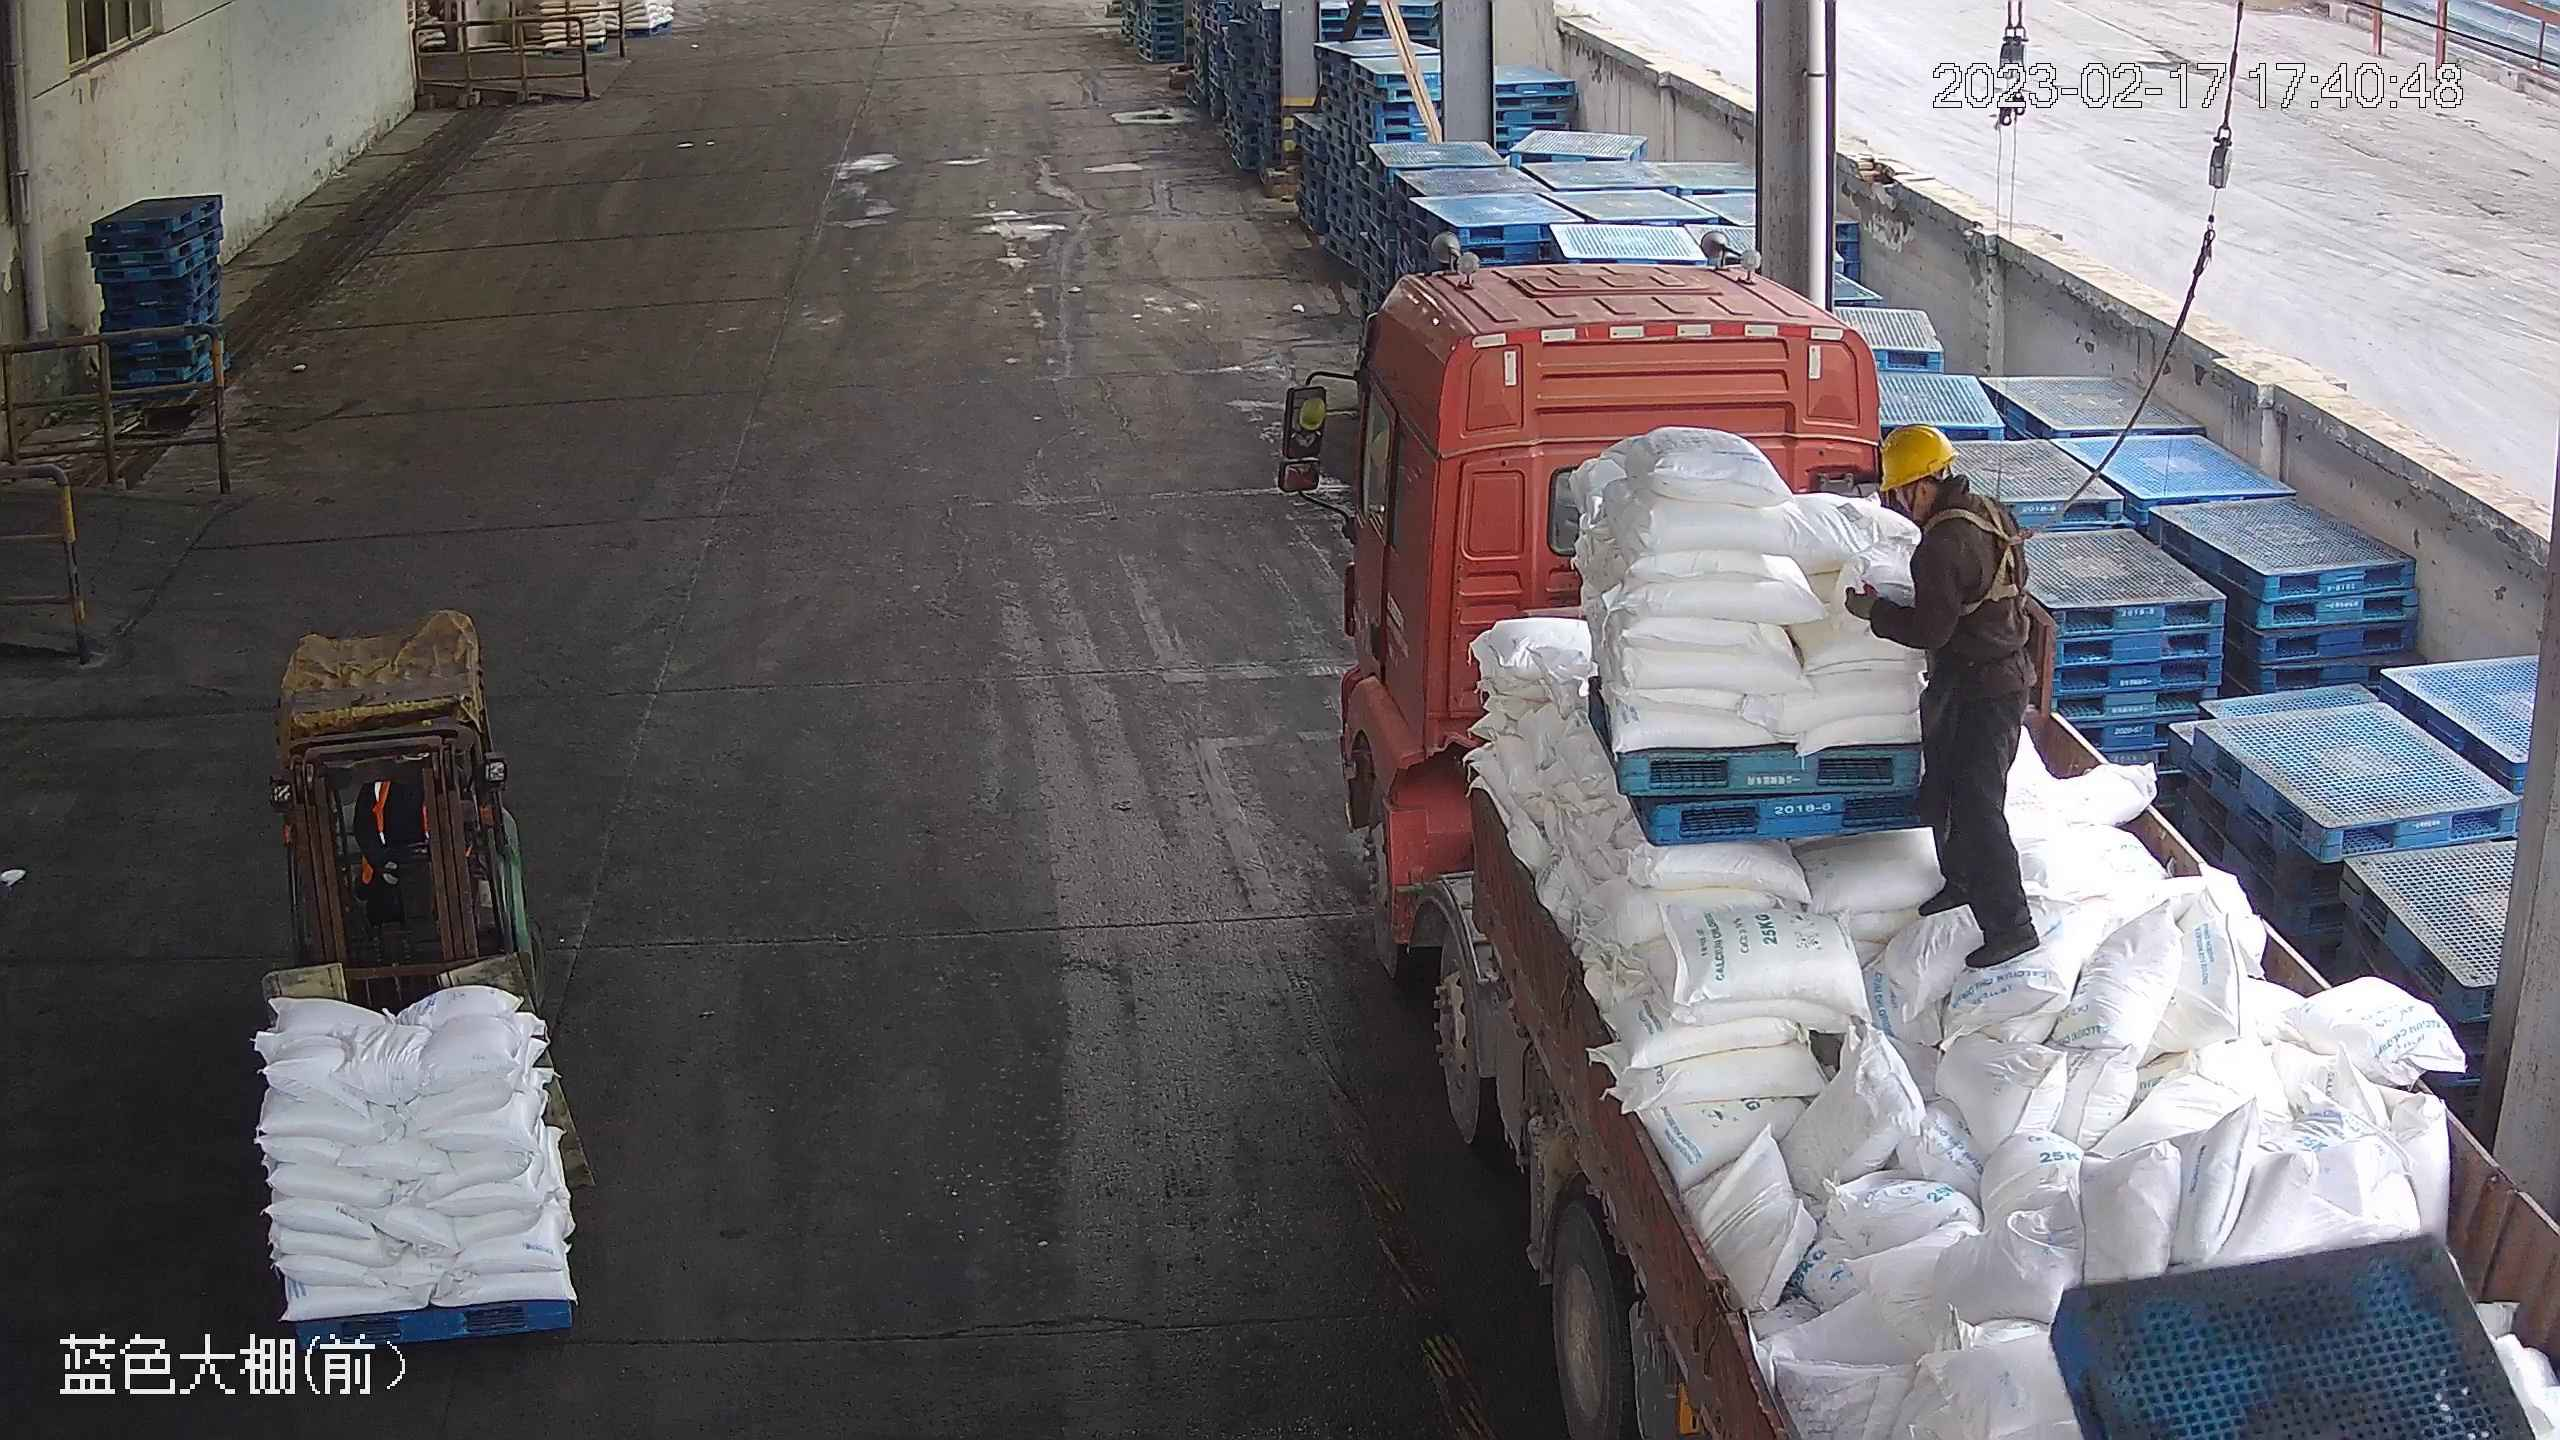belt: (1935, 491, 2038, 615)
head: (1869, 422, 2023, 581)
helmet: (1874, 419, 1957, 491)
people: (1840, 420, 2046, 975)
truck: (1284, 248, 2557, 1438)
